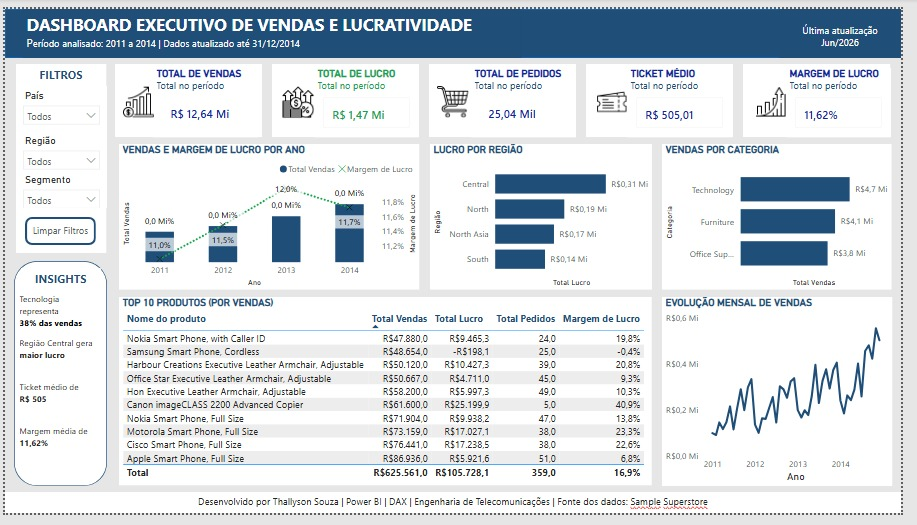

This screenshot's page, from the dashboard's own definition file:
{"tool":"powerbi","page":{"name":"Página 1","canvas":[1280,720],"ordinal":0},"visuals":[{"type":"shape","box":[12.9,360,132.9,321.4],"z":0},{"type":"shape","box":[15.7,78.6,128.6,270],"z":1000},{"type":"shape","box":[381.2,78.5,210,104.6],"z":2000},{"type":"shape","box":[156.9,78.5,210,104.6],"z":3000},{"type":"shape","box":[605.6,78.5,210,104.6],"z":4000},{"type":"shape","box":[829.9,78.5,210,104.6],"z":5000},{"type":"shape","box":[1054.3,78.5,210.6,104.6],"z":6000},{"type":"cardVisual","title":"TOTAL DE VENDAS","fields":{"Data":["SuperStoreOrders.Total Vendas"]},"box":[212,84,150,99.1],"z":7000},{"type":"shape","box":[0,0,1280,70],"z":8000},{"type":"textbox","box":[23.4,78.5,114.2,31.7],"z":9000},{"type":"tableEx","title":"TOP 10 PRODUTOS (POR VENDAS)","fields":{"Values":["SuperStoreOrders.product_name","SuperStoreOrders.Total Vendas","SuperStoreOrders.Total Lucro","SuperStoreOrders.Total Pedidos","SuperStoreOrders.Margem de Lucro"]},"box":[162.9,411.4,761.4,269.3],"z":10000},{"type":"lineClusteredColumnComboChart","title":"VENDAS E MARGEM DE LUCRO POR ANO","fields":{"Category":["SuperStoreOrders.order_date.Variation.Hierarquia de datas.Ano"],"Y2":["SuperStoreOrders.Margem de Lucro"],"Y":["SuperStoreOrders.Total Vendas"]},"box":[162.4,192.7,429.4,207.8],"z":11000},{"type":"barChart","title":"LUCRO POR REGIÃO","fields":{"Y":["SuperStoreOrders.Total Lucro"],"Category":["SuperStoreOrders.region"]},"box":[607,192.7,316.6,207.8],"z":12000},{"type":"barChart","title":"VENDAS POR CATEGORIA","fields":{"Category":["SuperStoreOrders.category"],"Y":["SuperStoreOrders.Total Vendas"]},"box":[938.7,192.7,327.6,207.8],"z":13000},{"type":"cardVisual","title":"MARGEM DE LUCRO","fields":{"Data":["SuperStoreOrders.Margem de Lucro"]},"box":[1116.2,84,150,99.1],"z":14000},{"type":"cardVisual","title":"TOTAL DE LUCRO","fields":{"Data":["SuperStoreOrders.Total Lucro"]},"box":[441.8,84,150,99.1],"z":15000},{"type":"cardVisual","title":"TOTAL DE PEDIDOS","fields":{"Data":["SuperStoreOrders.Total Pedidos"]},"box":[666.2,84,150,99.1],"z":16000},{"type":"cardVisual","title":"TICKET MÉDIO","fields":{"Data":["SuperStoreOrders.Ticket Médio"]},"box":[889.1,84,150,99.1],"z":17000},{"type":"shape","box":[0,705.7,1280,14.3],"z":18000},{"type":"slicer","fields":{"Values":["SuperStoreOrders.region"]},"box":[15.7,174.3,130,55.7],"z":19000},{"type":"slicer","fields":{"Values":["SuperStoreOrders.segment"]},"box":[15.7,230,130,54.3],"z":20000},{"type":"slicer","fields":{"Values":["SuperStoreOrders.country"]},"box":[15.7,110,130,65.7],"z":21000},{"type":"textbox","box":[26.2,0,711.6,70.2],"z":22000},{"type":"textbox","box":[0,690,1280,30],"z":23000},{"type":"textbox","box":[1105.7,0,174.3,70],"z":24000},{"type":"image","box":[616.6,110.1,45.4,45.4],"z":25000},{"type":"image","box":[843.7,110.1,45.4,45.4],"z":26000},{"type":"image","box":[1070.8,110.1,45.4,45.4],"z":27000},{"type":"image","box":[167.9,110.1,44,45.4],"z":28000},{"type":"image","box":[395.7,110,45.7,45.7],"z":29000},{"type":"actionButton","box":[28.6,297.1,101.4,40],"z":30000},{"type":"lineChart","title":"EVOLUÇÃO MENSAL DE VENDAS","fields":{"Y":["SuperStoreOrders.Total Vendas"],"Category":["SuperStoreOrders.order_date.Variation.Hierarquia de datas.Ano","SuperStoreOrders.order_date.Variation.Hierarquia de datas.Trimestre","SuperStoreOrders.order_date.Variation.Hierarquia de datas.Mês"]},"box":[938.6,411.4,328.6,270],"z":31000},{"type":"textbox","box":[23.1,370,113.8,36.2],"z":32000},{"type":"textbox","box":[15.4,400,121.5,70],"z":33000},{"type":"textbox","box":[15.4,463.1,122.3,70],"z":33001},{"type":"textbox","box":[15.4,526.2,121.5,70],"z":33002},{"type":"textbox","box":[15.4,589.2,122.3,70],"z":33003}]}

Visuals, with their boxes in screenshot pixels (x1, y1, x2, y2), scaled from the page's 1280x720 canvas onto the 917x525 screenshot:
shape: (left=9, top=262, right=104, bottom=497)
shape: (left=11, top=57, right=103, bottom=254)
shape: (left=273, top=57, right=424, bottom=134)
shape: (left=112, top=57, right=263, bottom=134)
shape: (left=434, top=57, right=584, bottom=134)
shape: (left=595, top=57, right=745, bottom=134)
shape: (left=755, top=57, right=906, bottom=134)
"TOTAL DE VENDAS" cardVisual: (left=152, top=61, right=259, bottom=134)
shape: (left=0, top=0, right=916, bottom=51)
textbox: (left=17, top=57, right=99, bottom=80)
"TOP 10 PRODUTOS (POR VENDAS)" tableEx: (left=117, top=300, right=662, bottom=496)
"VENDAS E MARGEM DE LUCRO POR ANO" lineClusteredColumnComboChart: (left=116, top=141, right=424, bottom=292)
"LUCRO POR REGIÃO" barChart: (left=435, top=141, right=662, bottom=292)
"VENDAS POR CATEGORIA" barChart: (left=672, top=141, right=907, bottom=292)
"MARGEM DE LUCRO" cardVisual: (left=800, top=61, right=907, bottom=134)
"TOTAL DE LUCRO" cardVisual: (left=317, top=61, right=424, bottom=134)
"TOTAL DE PEDIDOS" cardVisual: (left=477, top=61, right=585, bottom=134)
"TICKET MÉDIO" cardVisual: (left=637, top=61, right=744, bottom=134)
shape: (left=0, top=515, right=916, bottom=524)
slicer - SuperStoreOrders.region: (left=11, top=127, right=104, bottom=168)
slicer - SuperStoreOrders.segment: (left=11, top=168, right=104, bottom=207)
slicer - SuperStoreOrders.country: (left=11, top=80, right=104, bottom=128)
textbox: (left=19, top=0, right=529, bottom=51)
textbox: (left=0, top=503, right=916, bottom=524)
textbox: (left=792, top=0, right=916, bottom=51)
image: (left=442, top=80, right=474, bottom=113)
image: (left=604, top=80, right=637, bottom=113)
image: (left=767, top=80, right=800, bottom=113)
image: (left=120, top=80, right=152, bottom=113)
image: (left=283, top=80, right=316, bottom=114)
actionButton: (left=20, top=217, right=93, bottom=246)
"EVOLUÇÃO MENSAL DE VENDAS" lineChart: (left=672, top=300, right=908, bottom=497)
textbox: (left=17, top=270, right=98, bottom=296)
textbox: (left=11, top=292, right=98, bottom=343)
textbox: (left=11, top=338, right=99, bottom=389)
textbox: (left=11, top=384, right=98, bottom=435)
textbox: (left=11, top=430, right=99, bottom=481)
